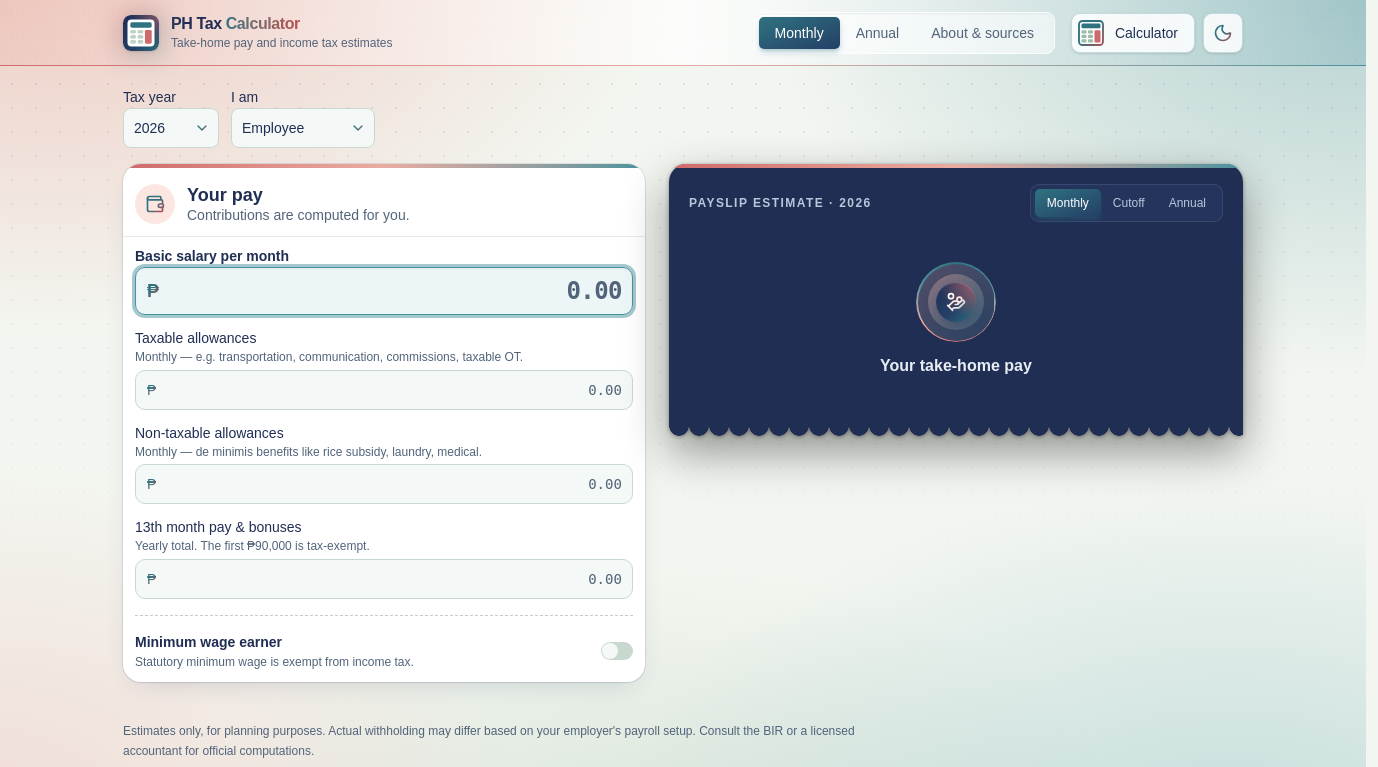
Test case: the calculator in the app › hides to a side tab on the X button, and moves the focus to the tab
Click the button "Calculator": (1133, 33) [1071,13,1195,53]
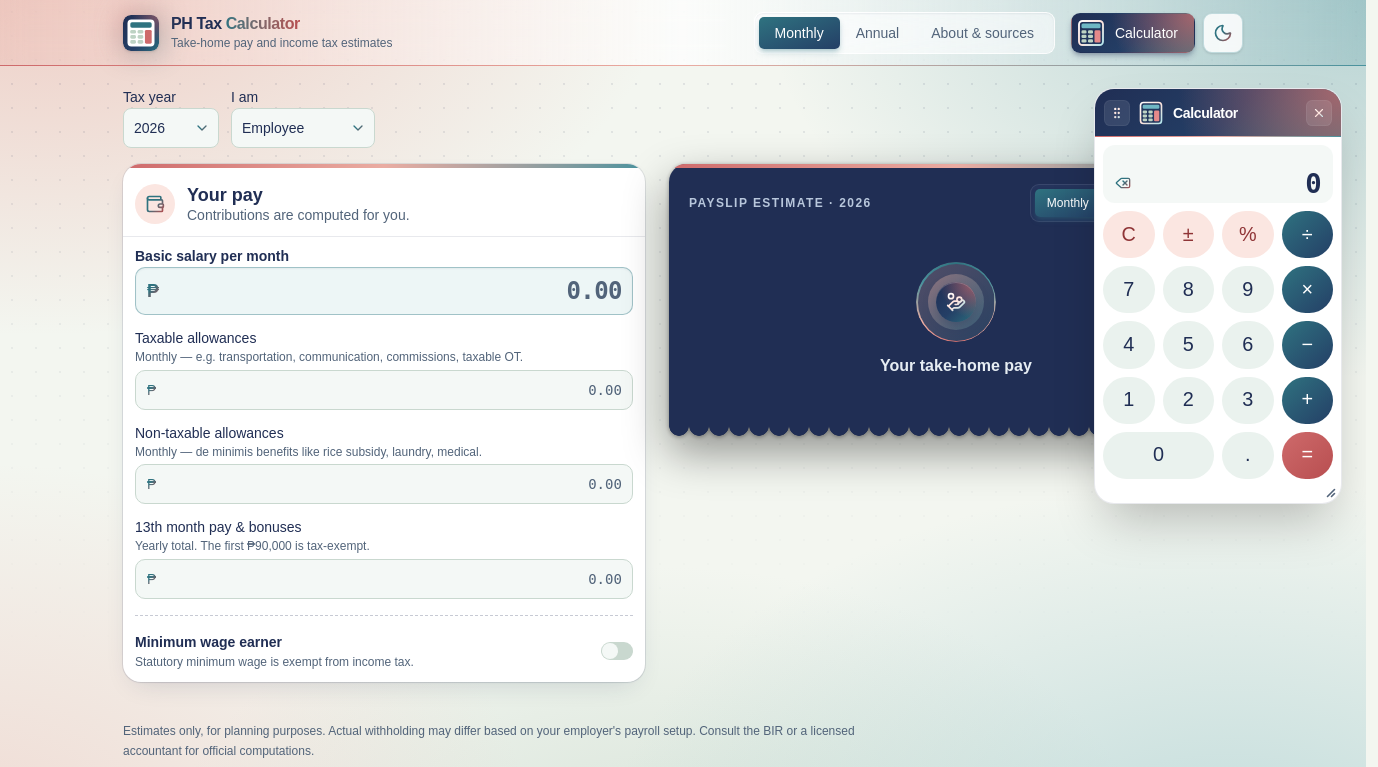
Click the button named "Hide calculator to the side": (1319, 113) [1307,101,1331,125]
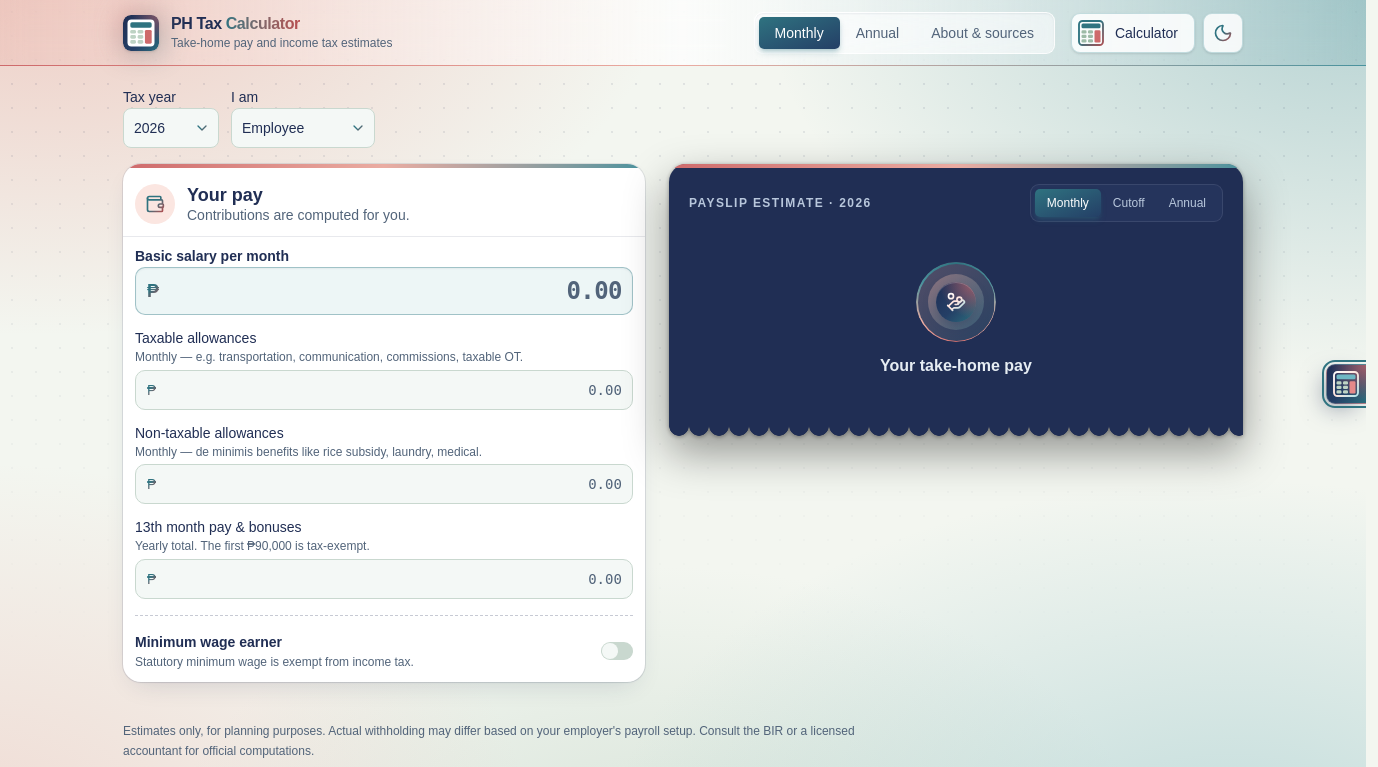
Expected: the text "Calculator 0 C ± % ÷ 7 8 9 × 4 5 6 − 1 2 3 + 0 . =" is gone
